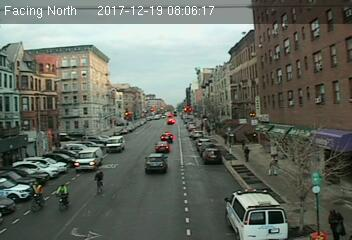bicycle: (28, 181, 47, 214), (54, 183, 70, 215), (93, 168, 106, 198)
car: (144, 152, 167, 173), (201, 147, 221, 163), (154, 139, 170, 153), (161, 132, 173, 141)
police: (224, 187, 289, 240)
truck: (75, 147, 103, 168), (105, 136, 128, 151)
